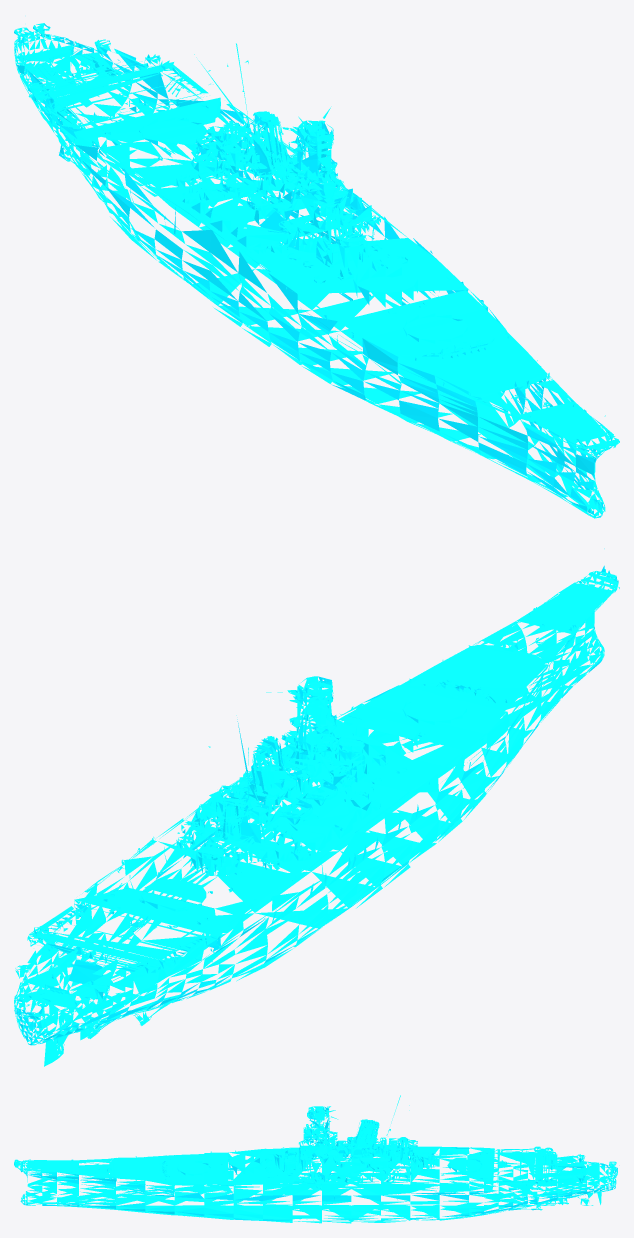
Rendered from Shikishima.glb.
3 views of the same model, one above another, from view 1: azimuth 30°, elevation 25°; view 2: azimuth 150°, elevation 25°; view 3: azimuth 270°, elevation 25° (orthographic). The views are drawn at different scales.
Bounding box in the file's own units: 2.63 × 3.52 × 17.56.
